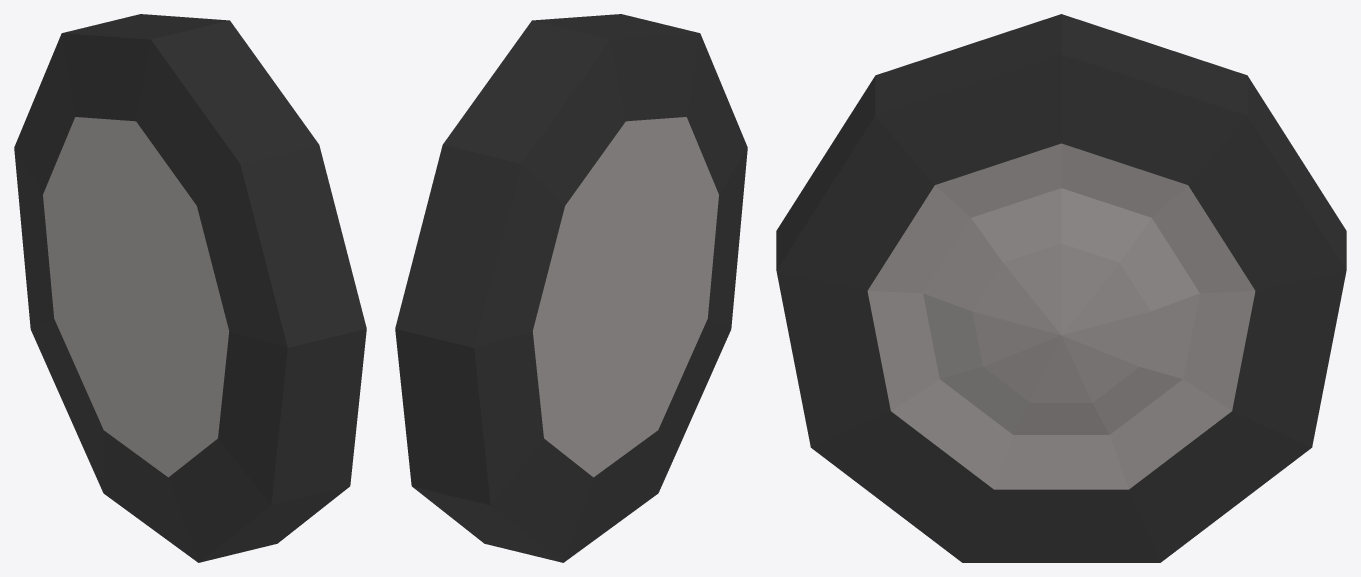
The model's file is car-hippie-van-wheel_FL.glb.
3 renders of one model, left to right at view 1: azimuth 30°, elevation 25°; view 2: azimuth 150°, elevation 25°; view 3: azimuth 270°, elevation 25°, orthographic. The views are drawn at different scales.
Visible parts, largest first — view 1: car-hippie-van-wheel_FL; view 2: car-hippie-van-wheel_FL; view 3: car-hippie-van-wheel_FL.
Boxes of the visible parts, <box> form: car-hippie-van-wheel_FL: <box>14,14,366,562</box>; car-hippie-van-wheel_FL: <box>395,14,747,562</box>; car-hippie-van-wheel_FL: <box>776,14,1346,562</box>.
Size of the model in its own units: 0.2276 by 0.733 by 0.7442.
1 material, 1 textured.
